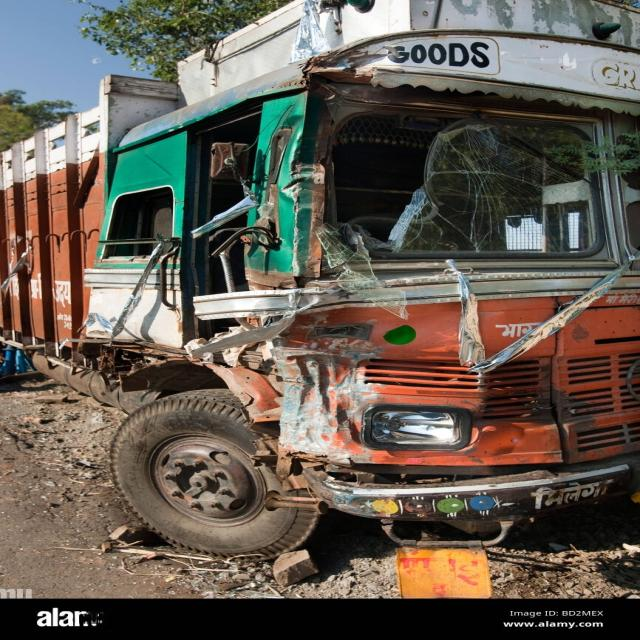accident: (0, 0, 640, 598)
